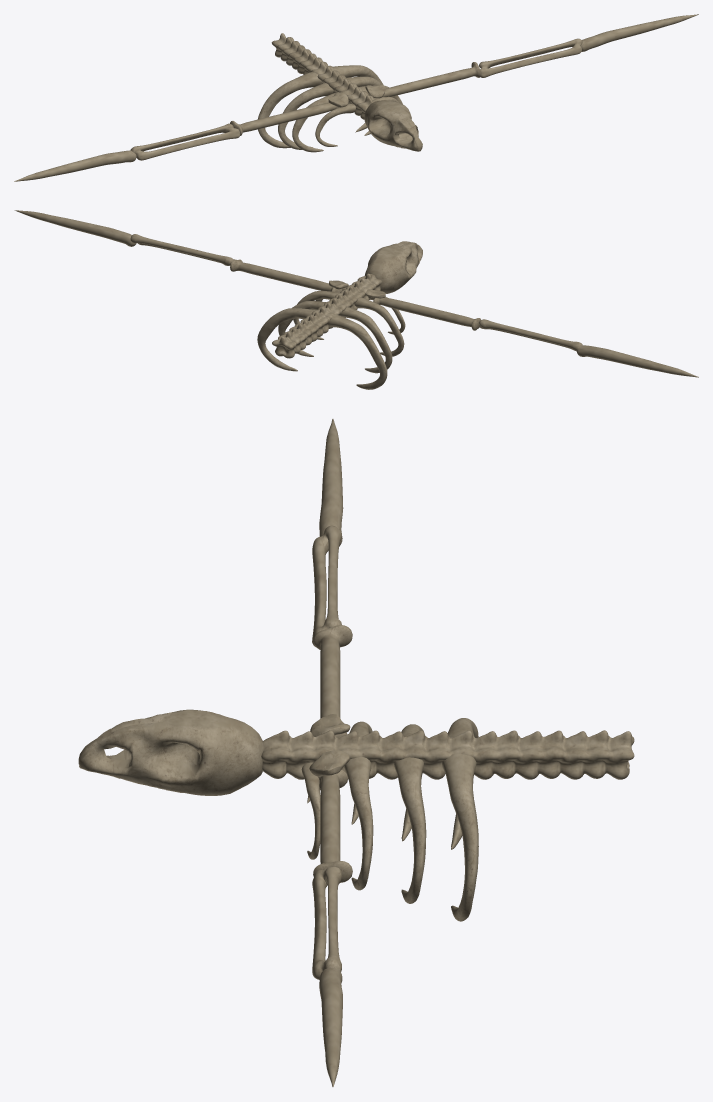
The model's file is Bird_Boss_TEXT.glb.
The picture shows the model from 3 angles, top to bottom: view 1: azimuth 30°, elevation 25°; view 2: azimuth 150°, elevation 25°; view 3: azimuth 270°, elevation 25°; orthographic projection. The views are drawn at different scales.
Visible parts, largest first — view 1: Retopo_Spine, Retopo_Head.002, Retopo_Ribs_4, Retopo_Right_Wing_Forearm, Retopo_Left_wing_Forearm, Retopo_Right_Wing_Tip, Retopo_Left_Wing_Tip, Retopo_Ribs_3, Retopo_Left_Wing_Bicep, Retopo_Right_Wing_Bicep, Retopo_Right_rib_2, Retopo_Right_Rib_1; view 2: Retopo_Spine, Retopo_Ribs_4, Retopo_Head.002, Retopo_Ribs_3, Retopo_Right_Wing_Tip, Retopo_Left_Wing_Tip, Retopo_Left_Wing_Bicep, Retopo_Right_Wing_Bicep, Retopo_Left_wing_Forearm, Retopo_Right_Wing_Forearm, Retopo_Right_rib_2, Retopo_Left_Rib_2; view 3: Retopo_Spine, Retopo_Head.002, Retopo_Ribs_4, Retopo_Ribs_3, Retopo_Left_wing_Forearm, Retopo_Right_Wing_Forearm, Retopo_Left_Wing_Bicep, Retopo_Right_Wing_Bicep, Retopo_Left_Wing_Tip, Retopo_Left_Rib_2, Retopo_Right_Wing_Tip.
Part boxes in pixels (x1,y1,x2,y2): Retopo_Spine: [271, 33, 378, 119]; Retopo_Head.002: [364, 100, 422, 151]; Retopo_Ribs_4: [257, 65, 383, 148]; Retopo_Right_Wing_Forearm: [130, 123, 240, 160]; Retopo_Left_wing_Forearm: [479, 38, 582, 77]; Retopo_Right_Wing_Tip: [14, 150, 136, 181]; Retopo_Left_Wing_Tip: [581, 14, 698, 51]; Retopo_Ribs_3: [278, 76, 381, 149]; Retopo_Left_Wing_Bicep: [382, 62, 481, 96]; Retopo_Right_Wing_Bicep: [230, 103, 338, 135]; Retopo_Right_rib_2: [292, 92, 338, 152]; Retopo_Right_Rib_1: [315, 104, 355, 146]; Retopo_Spine: [272, 273, 381, 358]; Retopo_Ribs_4: [257, 308, 387, 389]; Retopo_Head.002: [364, 241, 422, 293]; Retopo_Ribs_3: [278, 301, 392, 373]; Retopo_Right_Wing_Tip: [576, 345, 698, 377]; Retopo_Left_Wing_Tip: [14, 210, 136, 246]; Retopo_Left_Wing_Bicep: [230, 259, 342, 292]; Retopo_Right_Wing_Bicep: [373, 297, 480, 330]; Retopo_Left_wing_Forearm: [130, 234, 236, 265]; Retopo_Right_Wing_Forearm: [479, 319, 582, 351]; Retopo_Right_rib_2: [354, 297, 404, 356]; Retopo_Left_Rib_2: [293, 291, 340, 339]; Retopo_Spine: [261, 730, 634, 779]; Retopo_Head.002: [78, 709, 264, 795]; Retopo_Ribs_4: [442, 718, 478, 921]; Retopo_Ribs_3: [394, 724, 426, 903]; Retopo_Left_wing_Forearm: [312, 866, 341, 979]; Retopo_Right_Wing_Forearm: [312, 525, 341, 646]; Retopo_Left_Wing_Bicep: [313, 769, 352, 882]; Retopo_Right_Wing_Bicep: [313, 625, 352, 737]; Retopo_Left_Wing_Tip: [319, 968, 342, 1086]; Retopo_Left_Rib_2: [344, 756, 373, 890]; Retopo_Right_Wing_Tip: [319, 419, 343, 546].
Bounding box in the file's own units: 92.89 × 10.5 × 32.66.
1 material, 1 textured.
